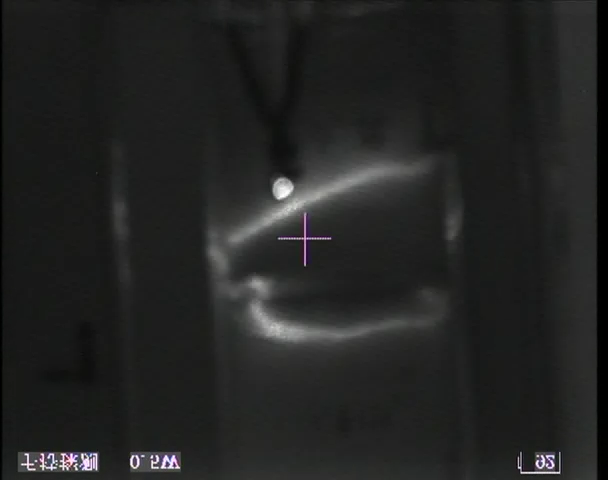my: (271, 175, 298, 203)
